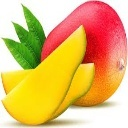mango: (42, 1, 128, 113)
